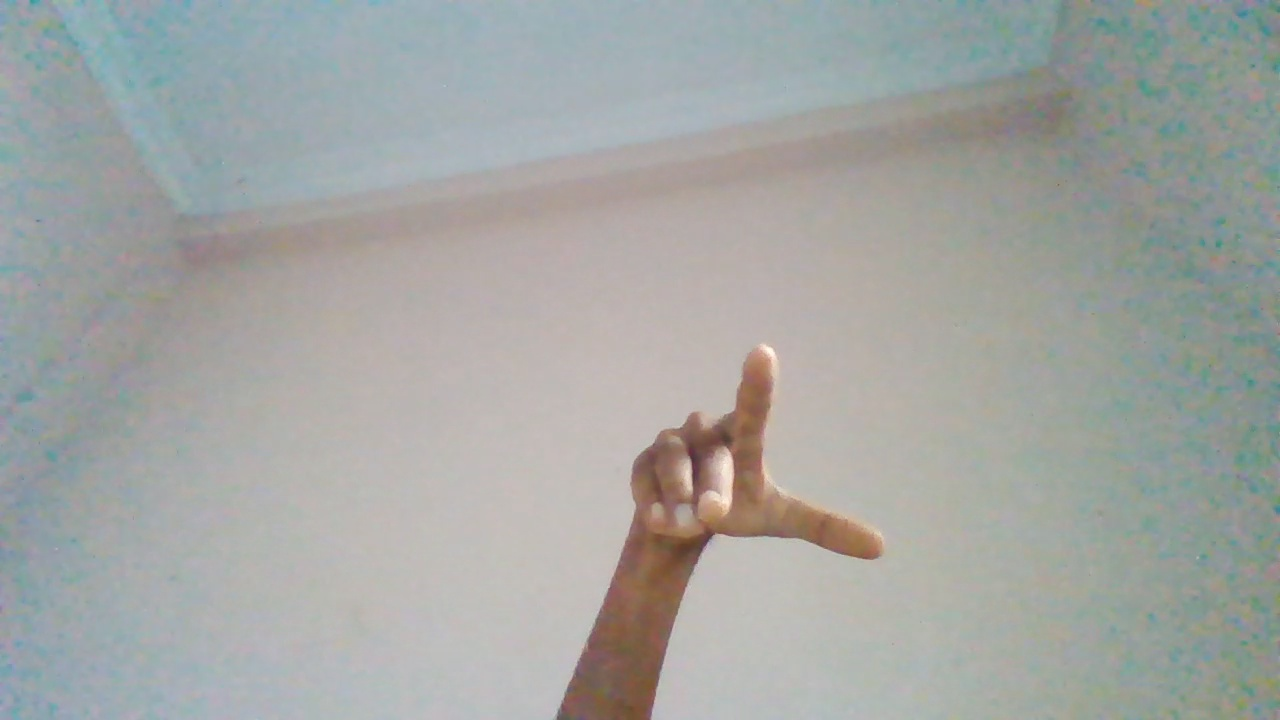ke: (628, 344, 889, 678)
